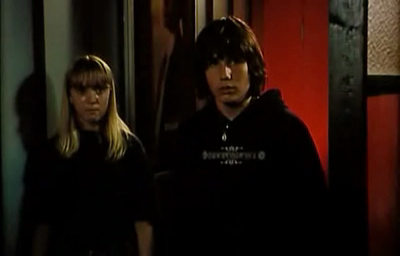face: (206, 51, 248, 105), (73, 84, 110, 119)
ms: (1, 1, 400, 256)
person: (153, 15, 331, 256), (25, 54, 154, 256)
